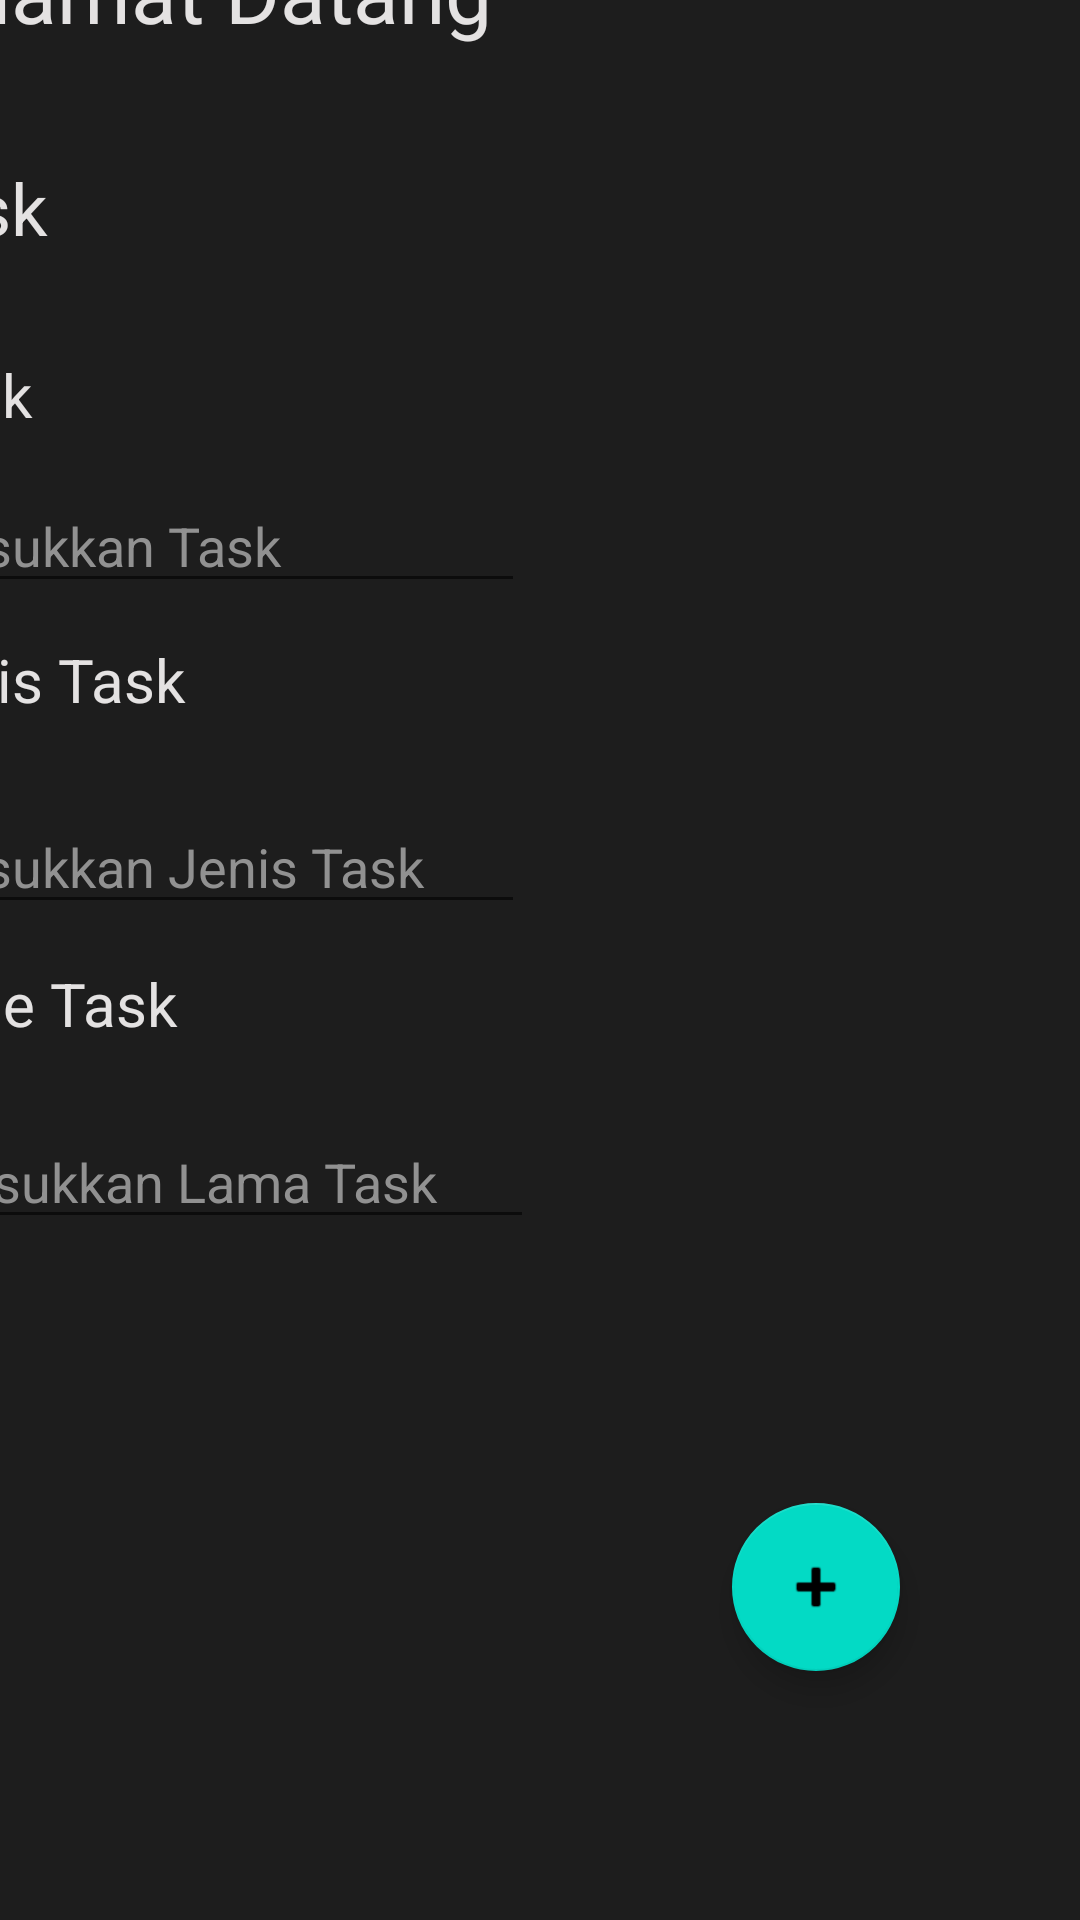

Icon bounding boxes for this 1080 × 1920 phone screenshot, format (x1=x1, y1=y1, x2=x2, y2=y2):
add: (x1=732, y1=1503, x2=900, y2=1671)
